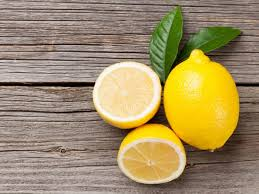lemon: (161, 44, 248, 159)
